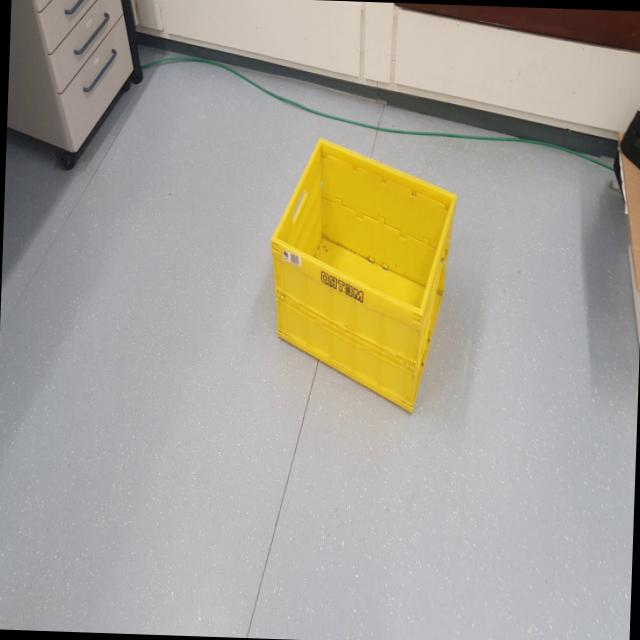box: (260, 130, 470, 420)
